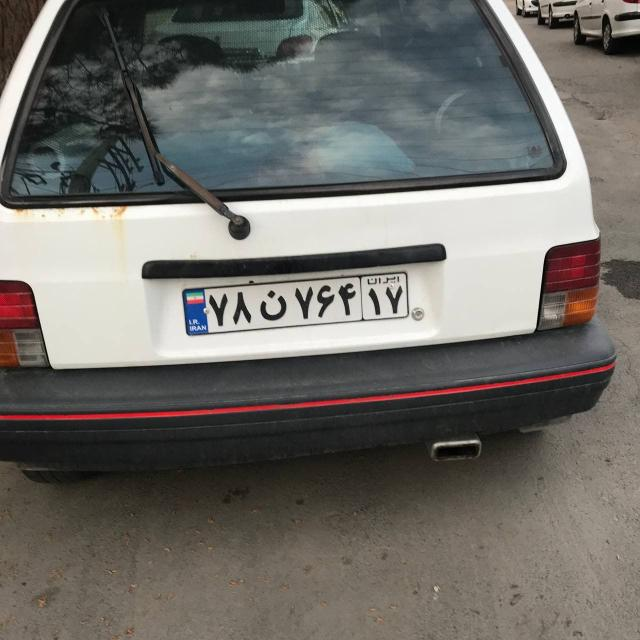Plates: (183, 270, 410, 336)
